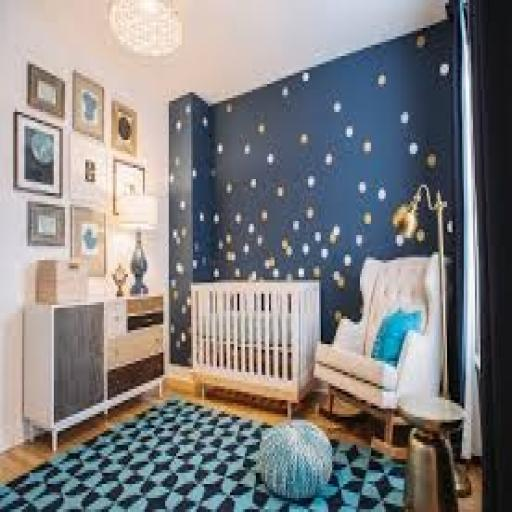crib: (192, 280, 320, 422)
